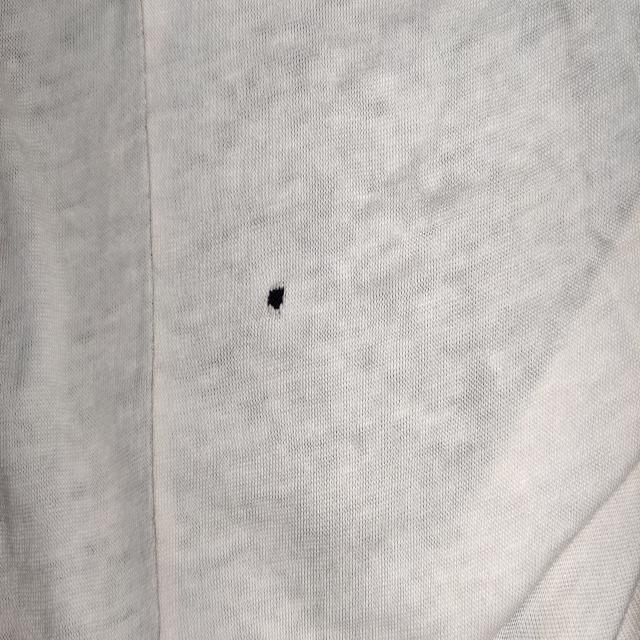Hole: (267, 286, 285, 310)
Line: (137, 3, 167, 640)
